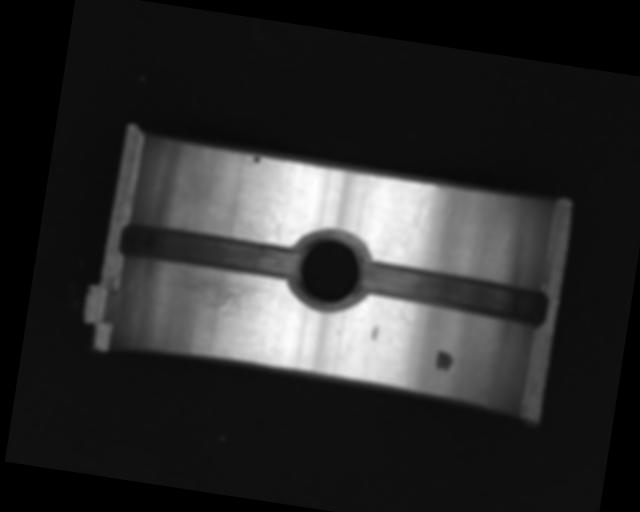blot: (433, 349, 455, 374), (248, 154, 261, 168)
bruise: (371, 324, 380, 341)
gap: (355, 260, 549, 330), (118, 221, 300, 278)
hole: (285, 224, 370, 314)
nick: (405, 205, 429, 266)
scratch: (155, 268, 277, 316)
